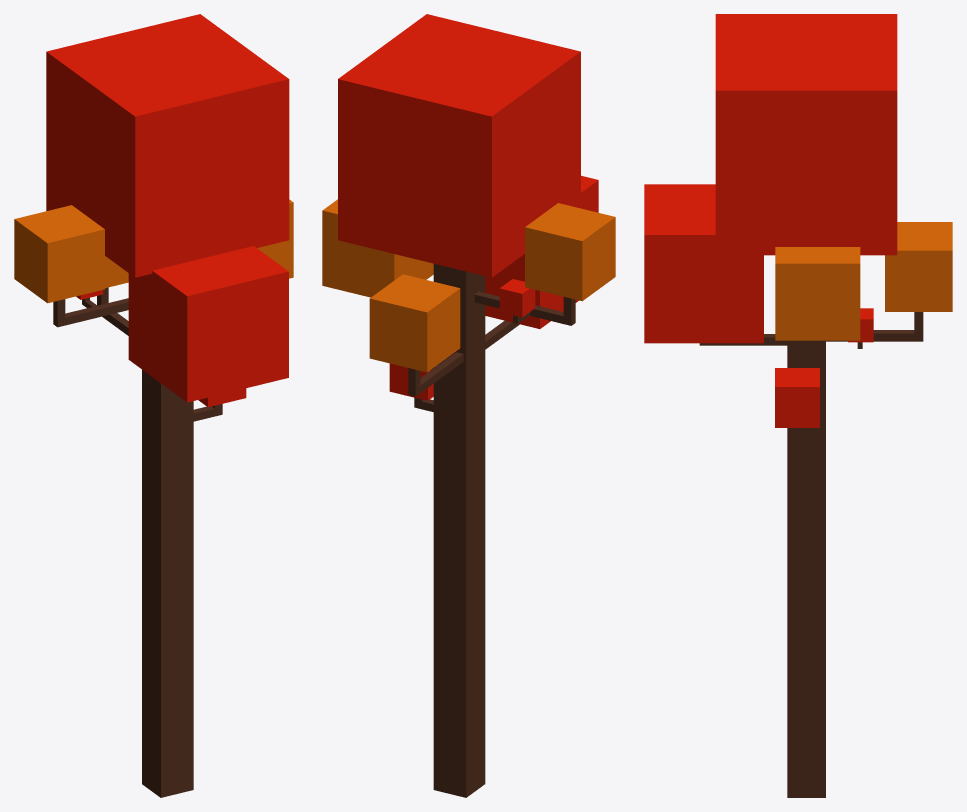
The model's file is Red_Tree-WithTexture.fbx.
The picture shows the model from 3 angles, left to right: view 1: azimuth 30°, elevation 25°; view 2: azimuth 150°, elevation 25°; view 3: azimuth 270°, elevation 25°; orthographic projection. The views are drawn at different scales.
Visible parts, largest first — view 1: Tree_3; view 2: Tree_3; view 3: Tree_3.
Part boxes in pixels (box(x1,y1,x2,y2)): Tree_3: box(14, 14, 293, 797); Tree_3: box(322, 14, 615, 797); Tree_3: box(644, 14, 952, 797).
Bounding box in the file's own units: 564 × 1565 × 594.
Materials: 1 (1 with a texture image).
